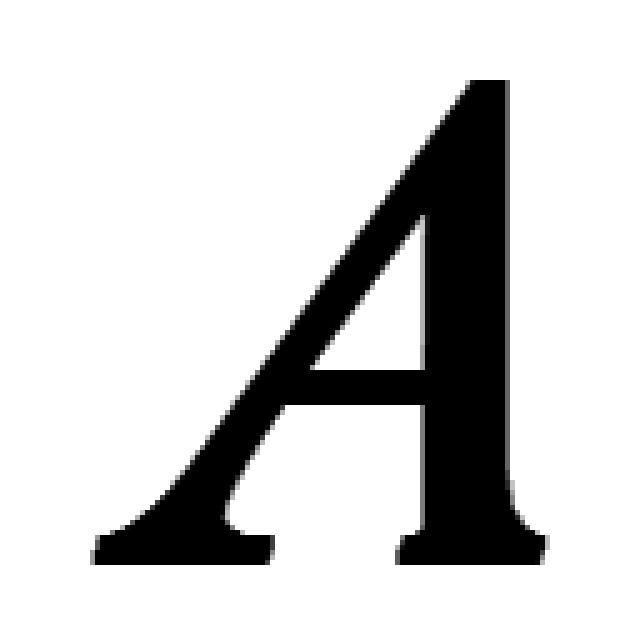A: (80, 70, 555, 575)
